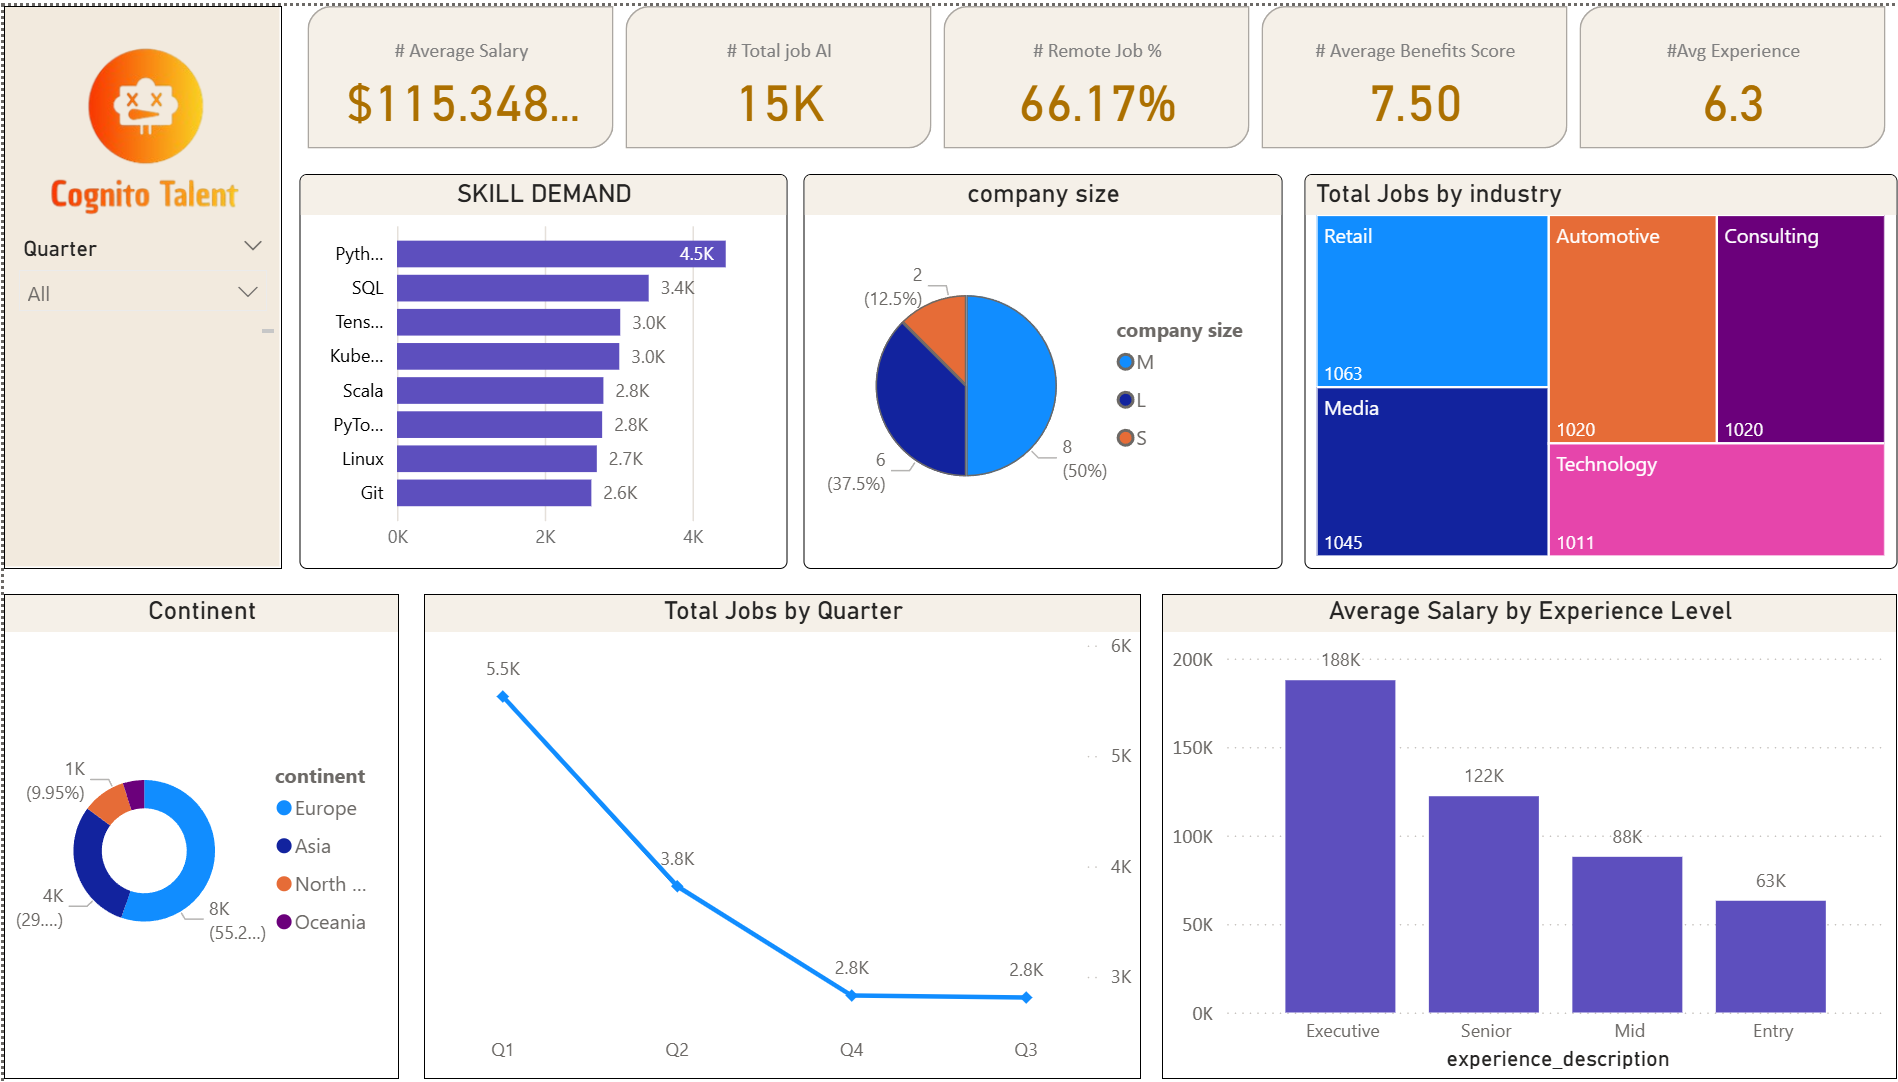

The page's visual inventory and layout, read from the dashboard file:
{"tool":"powerbi","page":{"name":"tổng quan ","canvas":[1280,720],"ordinal":0},"visuals":[{"type":"cardVisual","title":"Average Salary","fields":{"Data":["Table.Average Salary","Count(Fact_Jobs.job_id)","Table.Remote Job %","Fact_Jobs.Average Benefits Score","Table.Avg Experience"]},"box":[196.7,0,1065,95],"z":0},{"type":"clusteredColumnChart","title":"Average Salary by Experience Level","fields":{"Category":["DIM_EXPERIENCELEVELS.experience_description"],"Y":["Table.Average Salary"]},"box":[771.7,391.7,490,323.3],"z":1000},{"type":"barChart","title":"SKILL DEMAND ","fields":{"Category":["DIM_SKILL.skill_name"],"Y":["Fact_Jobs.Skill Demand Count"]},"box":[196.7,111.7,325,263.3],"z":2000},{"type":"pieChart","title":" company size","fields":{"Category":["DIM_COMPANIES.company_size","DIM_COMPANIES.company_name"],"Y":["CountNonNull(DIM_COMPANIES.company_name)"]},"box":[533.3,111.7,318.3,263.3],"z":3000},{"type":"lineChart","fields":{"Category":["Dim_Date.Quarter"],"Y2":["Table.Total Jobs"]},"box":[280,391.7,478.3,323.3],"z":4000},{"type":"treemap","fields":{"Group":["DIM_INDUSTRIES.industry"],"Values":["Table.Total Jobs"]},"box":[866.7,111.7,395,263.3],"z":5000},{"type":"shape","box":[0,0,185,375],"z":6000},{"type":"textbox","box":[0,210,185,13.3],"z":7000},{"type":"image","box":[21.7,8.3,143.3,148.3],"z":8000},{"type":"slicer","fields":{"Values":["Dim_Date.Quarter"]},"box":[0,148.3,185,95],"z":9000},{"type":"donutChart","title":"Continent","fields":{"Y":["Measurce 2.Total Jobs per Country"],"Category":["DIM_LOCATIONS.continent"]},"box":[0,391.7,263.3,323.3],"z":10000}]}

Visuals, with their boxes in screenshot pixels (x1, y1, x2, y2), scaled from the page's 1280x720 canvas onto the 1898x1082 screenshot:
"Average Salary" cardVisual: 292:0:1871:143
"Average Salary by Experience Level" clusteredColumnChart: 1144:589:1871:1074
"SKILL DEMAND " barChart: 292:168:774:564
" company size" pieChart: 791:168:1263:564
lineChart - Dim_Date.Quarter x Table.Total Jobs: 415:589:1124:1074
treemap - DIM_INDUSTRIES.industry x Table.Total Jobs: 1285:168:1871:564
shape: 0:0:274:564
textbox: 0:316:274:336
image: 32:12:245:235
slicer - Dim_Date.Quarter: 0:223:274:366
"Continent" donutChart: 0:589:390:1074
